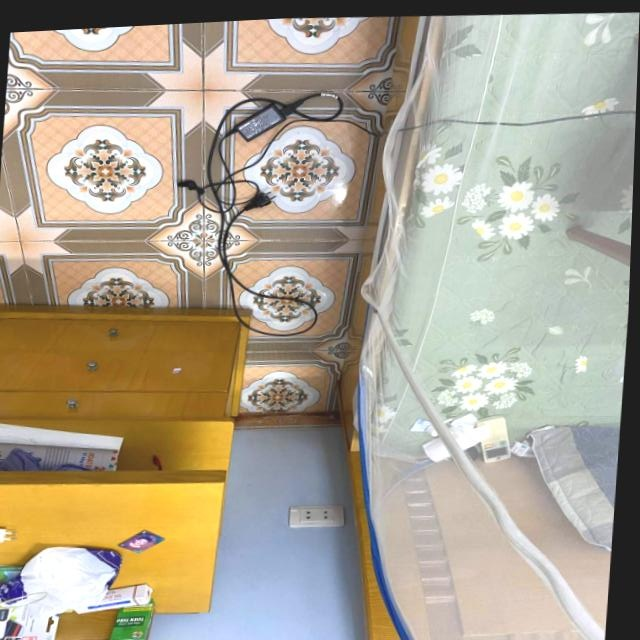outlet: (289, 501, 348, 528)
